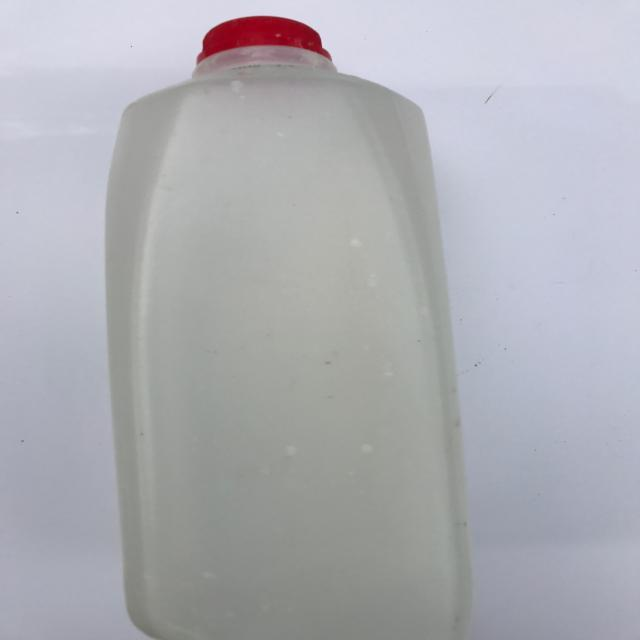plastic: (85, 14, 472, 640)
